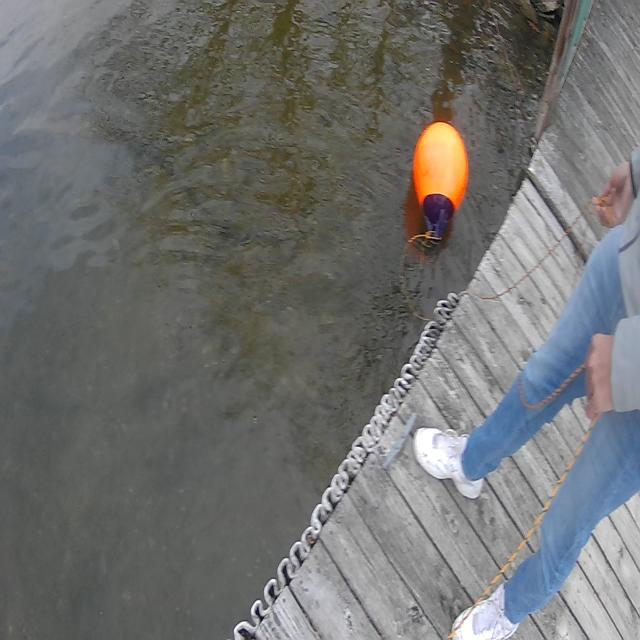Buoy: (405, 105, 473, 259)
